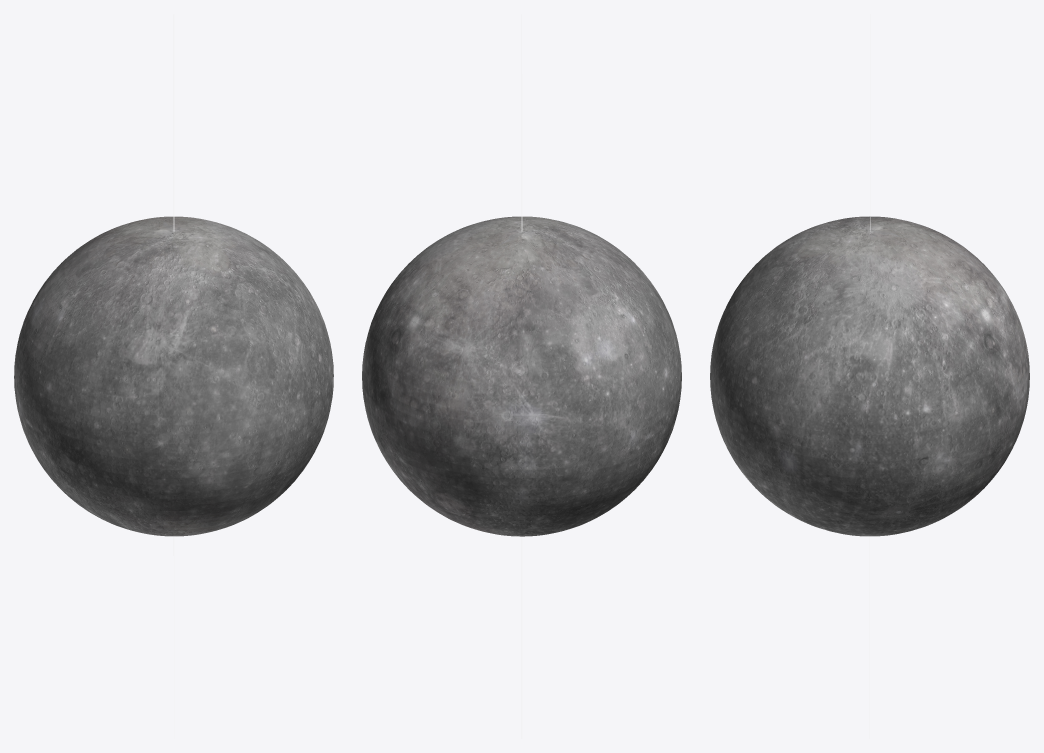
Rendered from mercury.glb.
The picture shows the model from 3 angles, left to right: view 1: azimuth 30°, elevation 25°; view 2: azimuth 150°, elevation 25°; view 3: azimuth 270°, elevation 25°; orthographic projection.
Visible parts, largest first — view 1: Sphere, Axis_Rod; view 2: Sphere, Axis_Rod; view 3: Sphere.
Part boxes in pixels (left/top/right/bottom): Sphere: left=14, top=216, right=333, bottom=536; Axis_Rod: left=173, top=14, right=174, bottom=738; Sphere: left=362, top=216, right=681, bottom=536; Axis_Rod: left=521, top=14, right=522, bottom=738; Sphere: left=710, top=216, right=1029, bottom=536.
Size of the model in its own units: 2 by 5 by 2.
2 materials, 1 textured.
